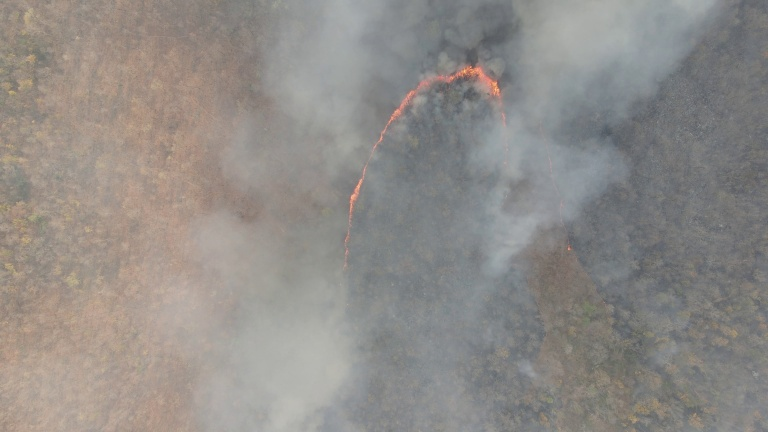fire: (342, 68, 507, 277), (562, 241, 572, 256)
smoke: (189, 1, 404, 424), (465, 1, 693, 284)
